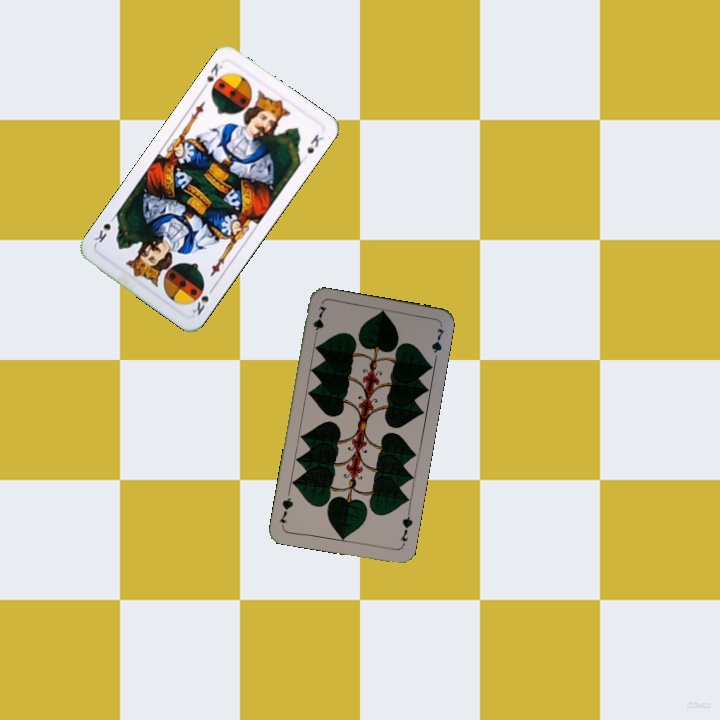G7: (309, 302, 329, 342), (396, 508, 415, 548)
SK: (188, 282, 217, 318), (198, 59, 225, 93)
